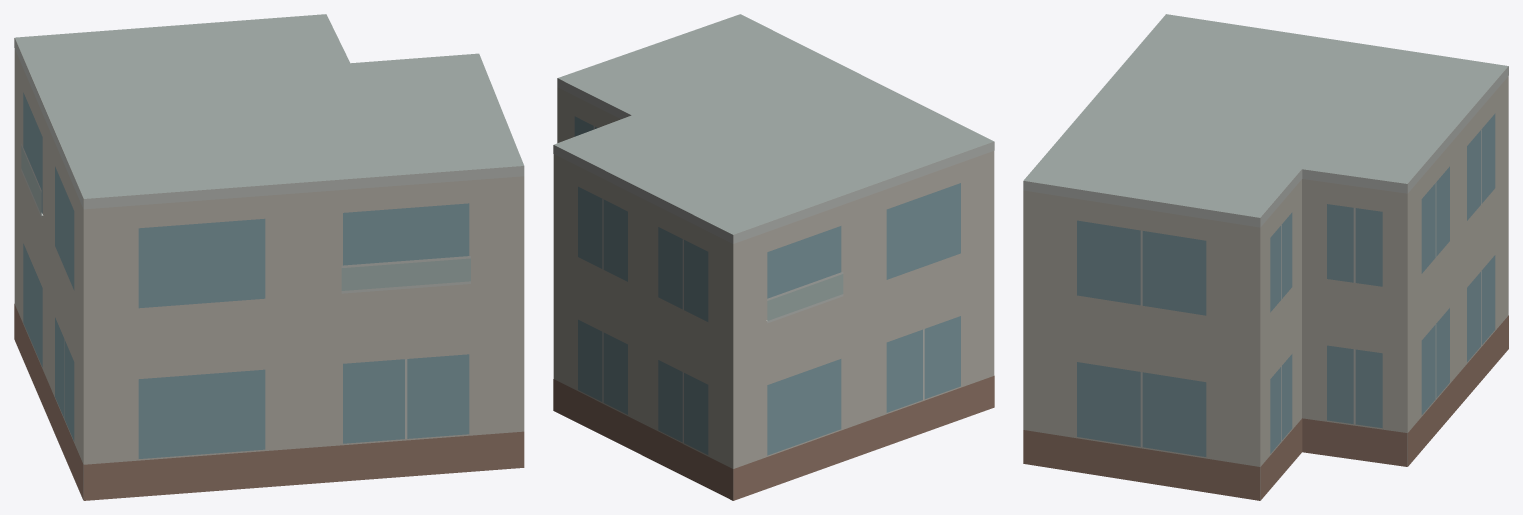
Rendered from survey-upis-32711555.glb.
The picture shows the model from 3 angles, left to right: view 1: azimuth 30°, elevation 25°; view 2: azimuth 150°, elevation 25°; view 3: azimuth 270°, elevation 25°; orthographic projection. The views are drawn at different scales.
Parts seen in each view (by area): view 1: survey-upis-32711555.tmp; view 2: survey-upis-32711555.tmp; view 3: survey-upis-32711555.tmp.
Part boxes in pixels (<box>): survey-upis-32711555.tmp: <box>14,14,524,500</box>; survey-upis-32711555.tmp: <box>553,14,994,500</box>; survey-upis-32711555.tmp: <box>1023,14,1508,500</box>.
Bounding box in the file's own units: 10.98 × 7.1 × 11.05.
